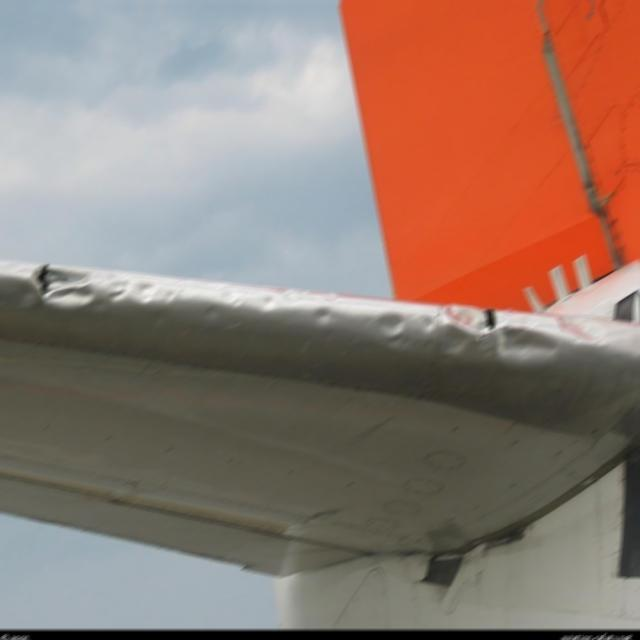dent: (28, 262, 616, 373)
